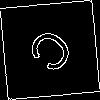C: (25, 25, 84, 83)
